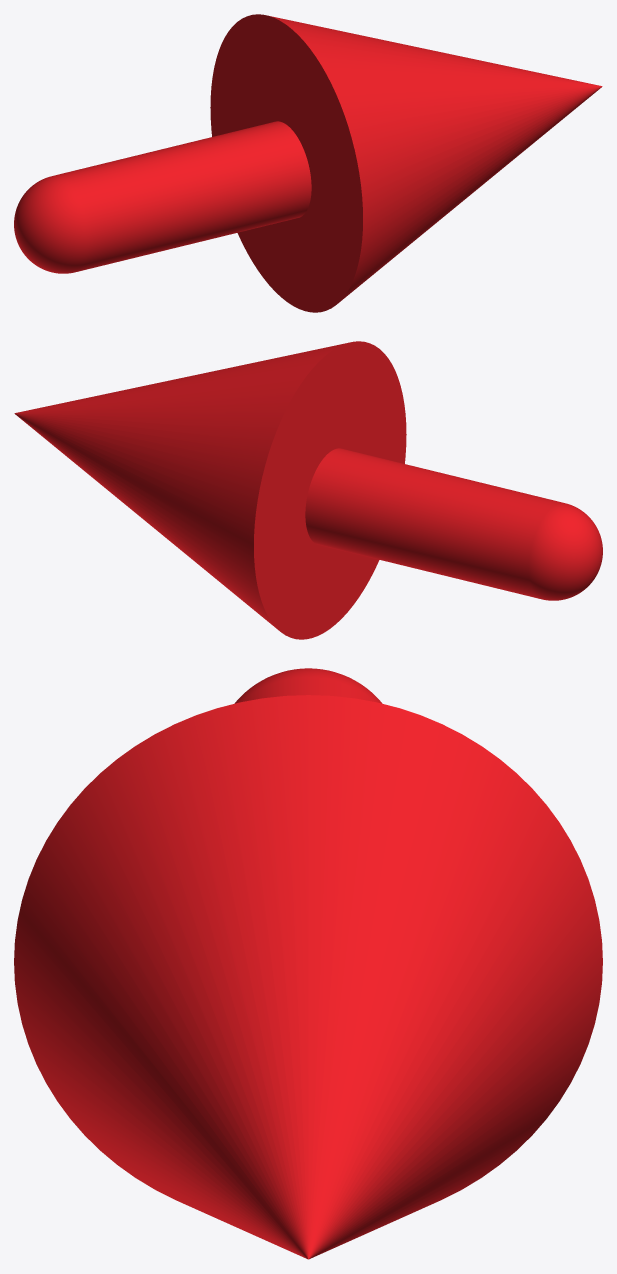
The model's file is arroww.fbx.
The picture shows the model from 3 angles, top to bottom: view 1: azimuth 30°, elevation 25°; view 2: azimuth 150°, elevation 25°; view 3: azimuth 270°, elevation 25°; orthographic projection. The views are drawn at different scales.
Visible parts, largest first — view 1: node_id37 (×2); view 2: node_id37 (×2); view 3: node_id37 (×2).
Part boxes in pixels (x1=…): node_id37 (×2): x1=14, y1=14, x2=602, y2=312; node_id37 (×2): x1=14, y1=341, x2=602, y2=639; node_id37 (×2): x1=14, y1=668, x2=602, y2=1259.
Size of the model in its own units: 0.8035 by 0.3648 by 0.3648.
